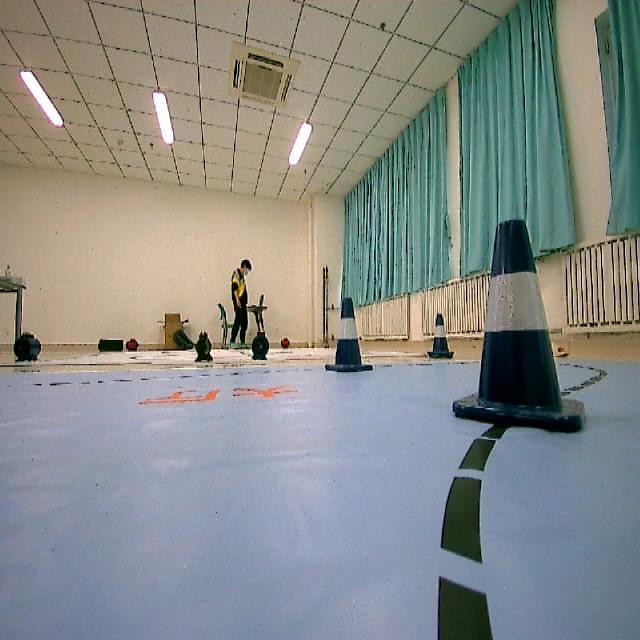obstacle: (449, 216, 589, 444), (320, 294, 378, 376), (428, 312, 456, 358)
